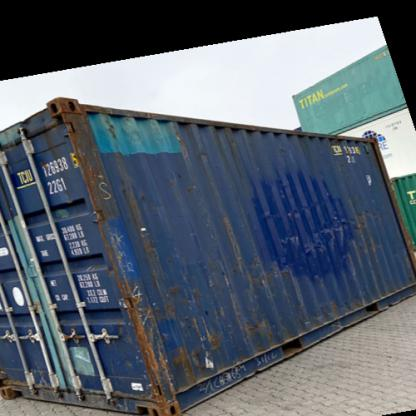Damage: (118, 280, 197, 392), (220, 212, 254, 286), (288, 221, 356, 254), (170, 128, 220, 166), (298, 301, 354, 334), (238, 314, 276, 358), (82, 160, 116, 206), (100, 108, 126, 148), (279, 197, 328, 214)
